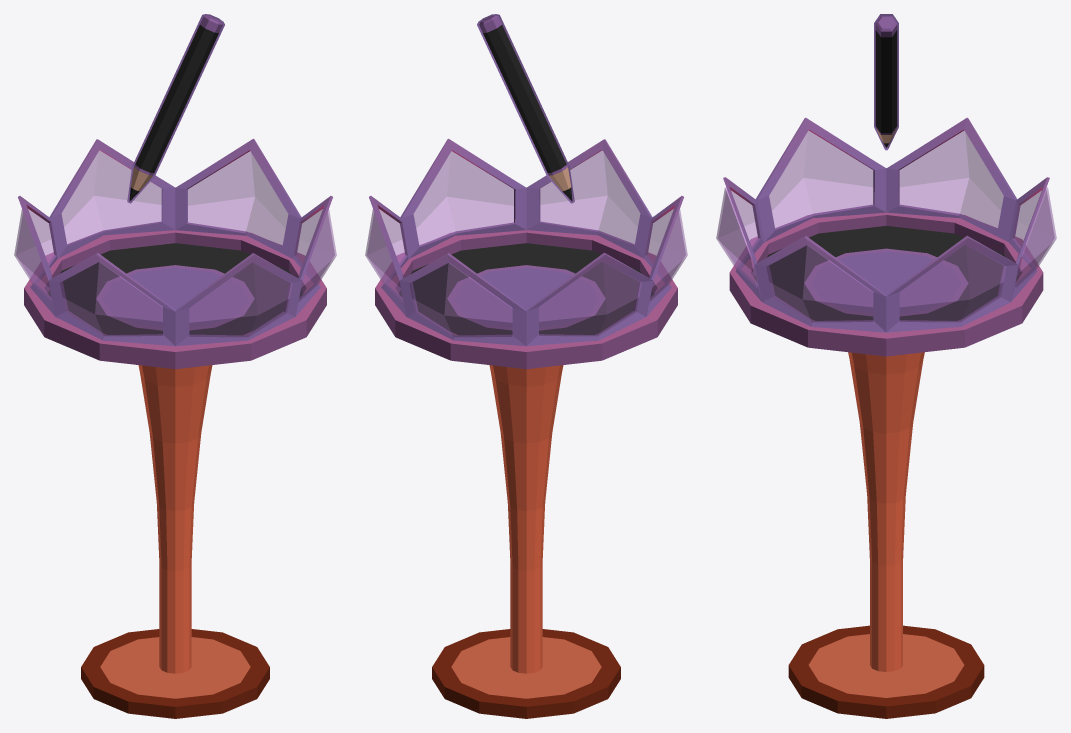
Rendered from artichoke_message.glb.
3 renders of one model, left to right at view 1: azimuth 30°, elevation 25°; view 2: azimuth 150°, elevation 25°; view 3: azimuth 270°, elevation 25°, orthographic. The views are drawn at different scales.
Visible parts, largest first — view 1: message_booth_base-artichoke, pencil.001; view 2: message_booth_base-artichoke, pencil.001; view 3: message_booth_base-artichoke, pencil.001.
Part boxes in pixels (x1,y1,x2,y2): message_booth_base-artichoke: (14,138,336,718); pencil.001: (127,14,224,203); message_booth_base-artichoke: (365,138,687,718); pencil.001: (477,14,574,203); message_booth_base-artichoke: (716,117,1056,718); pencil.001: (874,14,898,150).
Size of what is drawn, in the model's own units: 0.8129 by 1.94 by 0.8826.
Materials: 3 (3 with a texture image).
